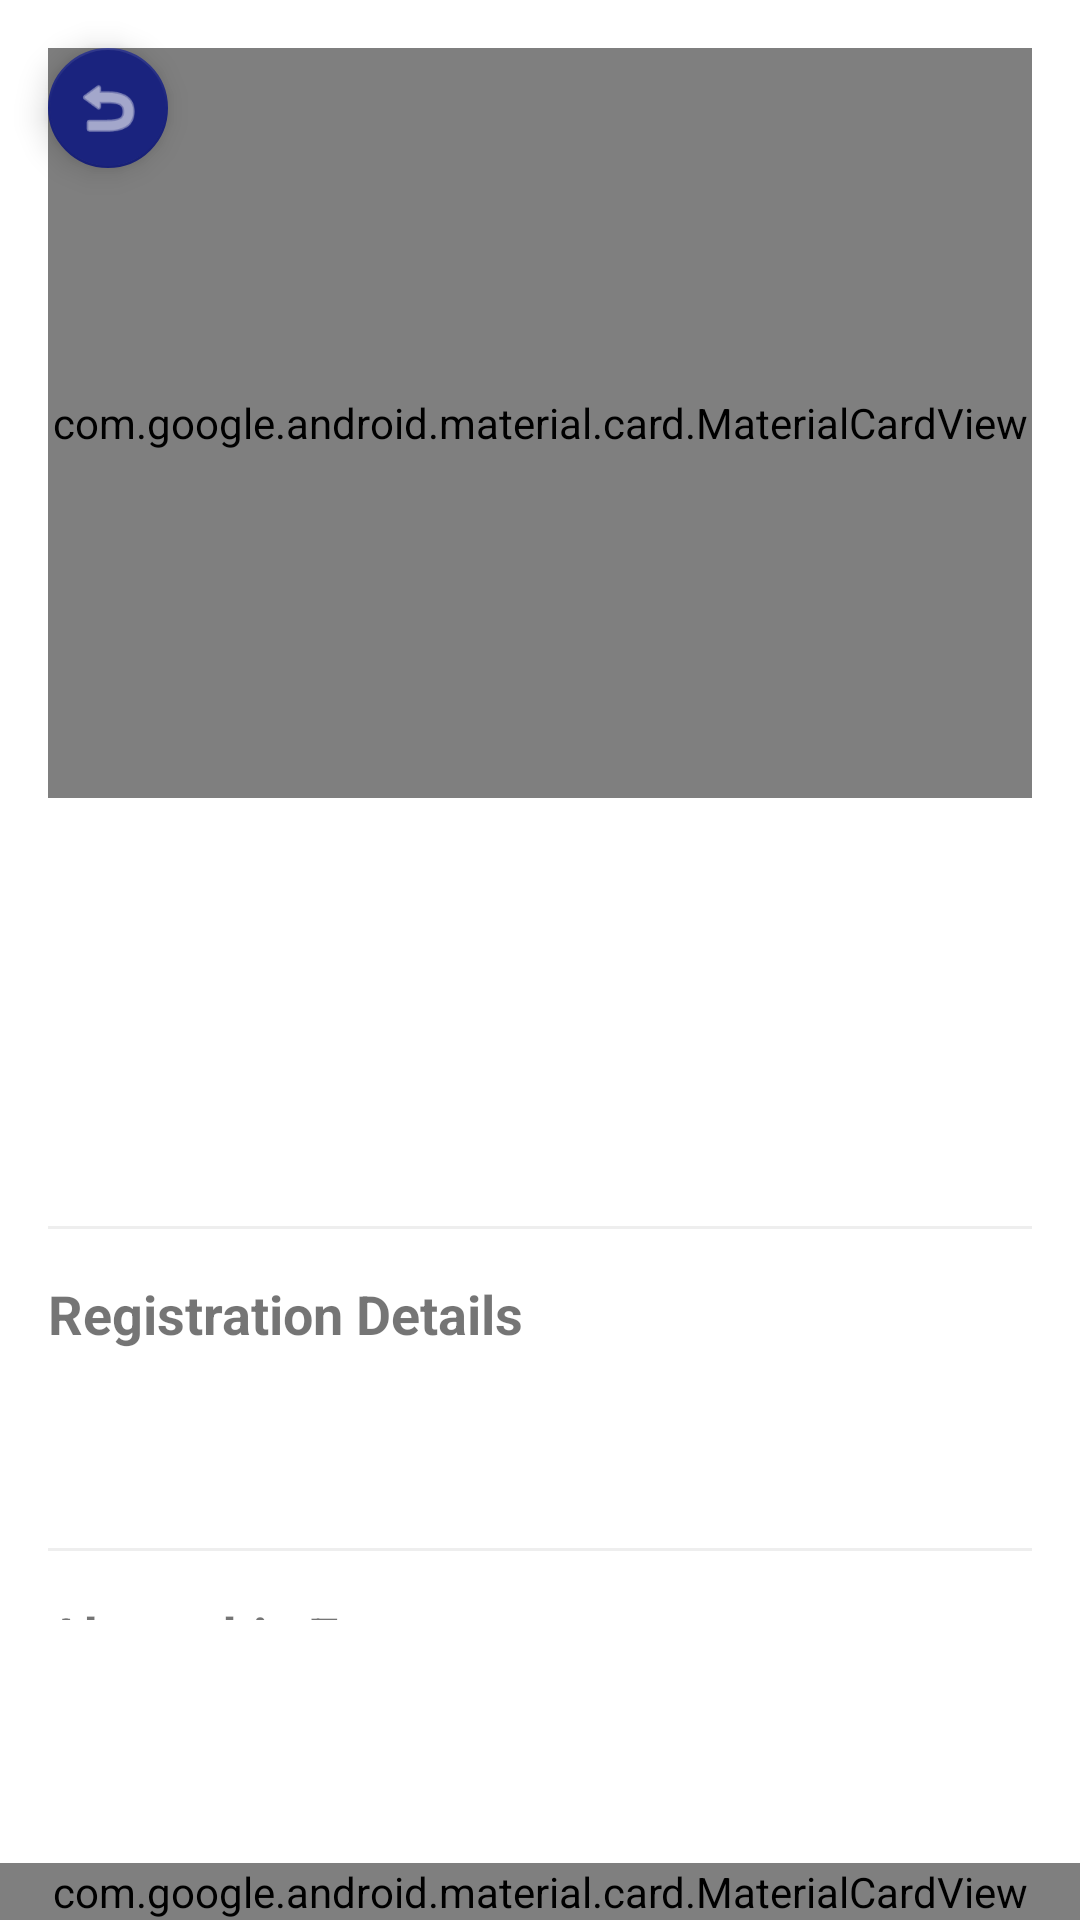

Point at icon controls on the screen. Image size 1080*1920, points as [x,y].
Return to list: [108,108]
